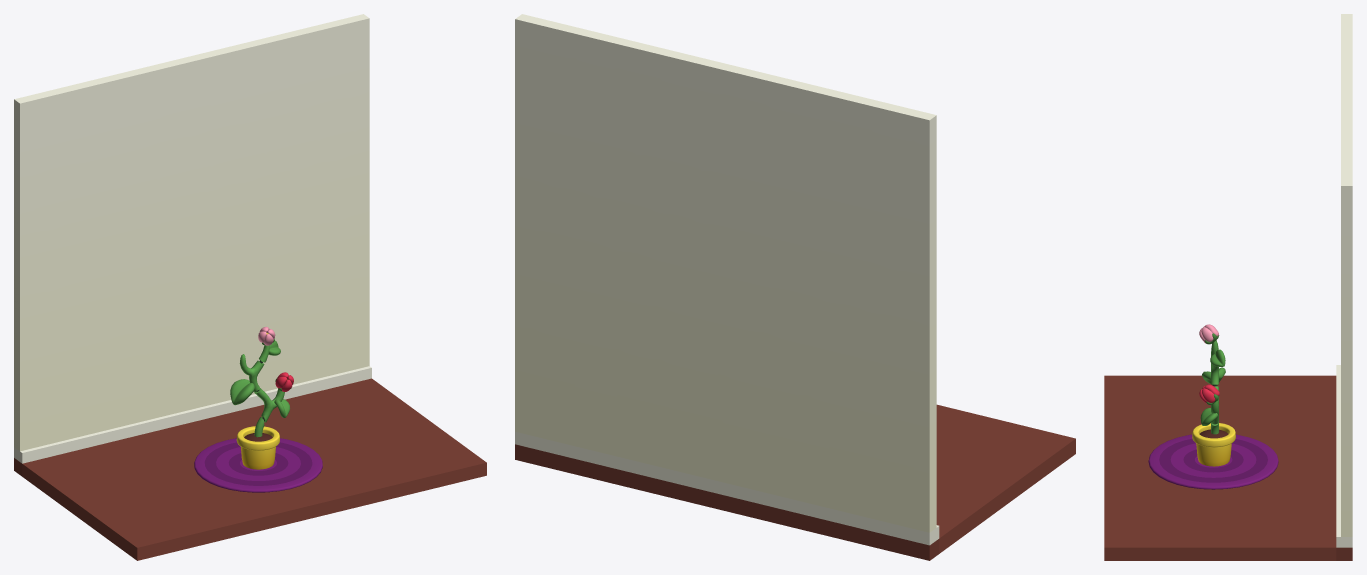
The model's file is PlantInRoom.fbx.
3 renders of one model, left to right at view 1: azimuth 30°, elevation 25°; view 2: azimuth 150°, elevation 25°; view 3: azimuth 270°, elevation 25°, orthographic. The views are drawn at different scales.
Parts seen in each view (by area): view 1: RoomWall.002, Cylinder, Pot, Stem; view 2: RoomWall.002; view 3: RoomWall.002, Cylinder, Pot, Stem, FlowerHead.Purple.
Part boxes in pixels (bbox=[...]): RoomWall.002: bbox=[14, 14, 486, 560]; Cylinder: bbox=[194, 438, 322, 492]; Pot: bbox=[236, 426, 279, 469]; Stem: bbox=[239, 345, 284, 437]; RoomWall.002: bbox=[515, 14, 1075, 560]; RoomWall.002: bbox=[1104, 14, 1352, 560]; Cylinder: bbox=[1148, 434, 1278, 489]; Pot: bbox=[1192, 423, 1235, 466]; Stem: bbox=[1211, 340, 1218, 434]; FlowerHead.Purple: bbox=[1199, 384, 1219, 405].
Size of the model in its own units: 626 by 635 by 382.
